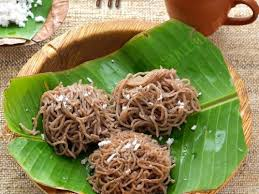idyappa: (36, 78, 216, 194)
